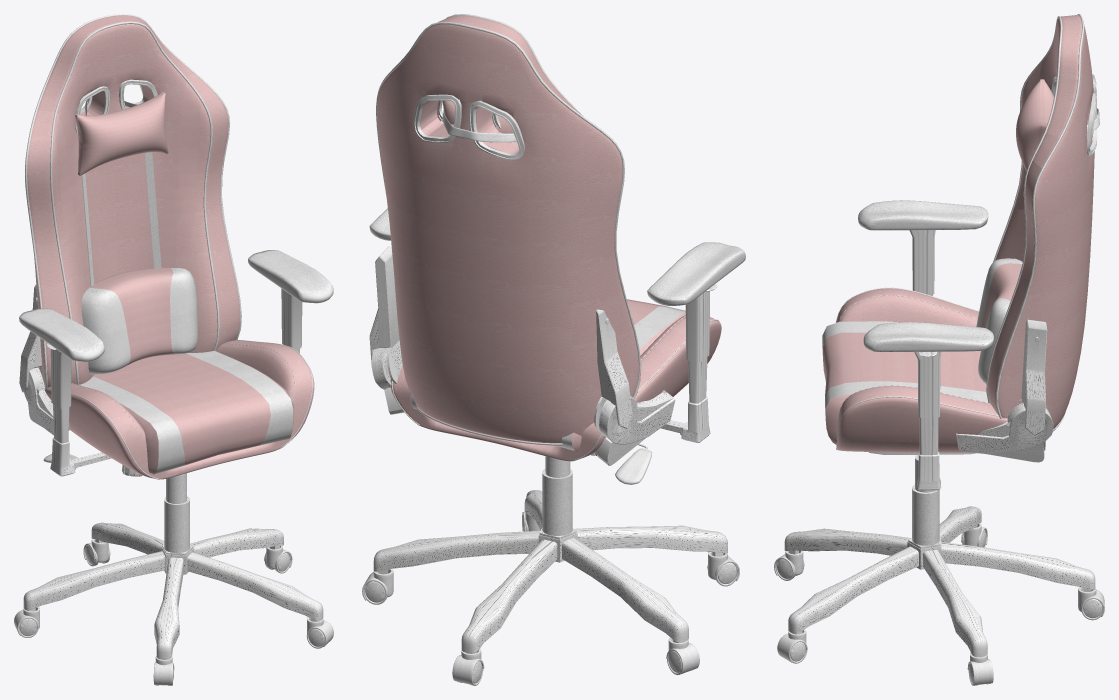
3 views of the same model, side by side, from view 1: azimuth 30°, elevation 25°; view 2: azimuth 150°, elevation 25°; view 3: azimuth 270°, elevation 25° (orthographic). The views are drawn at different scales.
Parts seen in each view (by area): view 1: Box008_Leather Full Grain Black_0, Cylinder010_Acrylic Opaque Black Dirty_0, Box005_Leather Full Grain Black_0, Box015, Box006_Leather Full Grain Black_0, Object055_Leather Full Grain Black_0, Object053_Material #8_0, Object054_Material #8_0, Box016_Leather Full Grain Black_0, Box017, Box013_Acrylic Opaque Black Dirty_0, Shape003_Material #8_0 (+3 smaller); view 2: Box008_Leather Full Grain Black_0, Cylinder010_Acrylic Opaque Black Dirty_0, Box013_Acrylic Opaque Black Dirty_0, Box015, Box006_Leather Full Grain Black_0, Shape004_Material #8_0, Object052_Acrylic Opaque Black Dirty_0, Object054_Material #8_0, Box005_Leather Full Grain Black_0, Box020; view 3: Box008_Leather Full Grain Black_0, Cylinder010_Acrylic Opaque Black Dirty_0, Box015, Box006_Leather Full Grain Black_0, Box005_Leather Full Grain Black_0, Box013_Acrylic Opaque Black Dirty_0, Box016_Leather Full Grain Black_0, Object054_Material #8_0, Object053_Material #8_0, Shape003_Material #8_0, Shape004_Material #8_0, Box017 (+3 smaller).
Part boxes in pixels (x1,y1,x2,y2): Box008_Leather Full Grain Black_0: [27, 15, 240, 387]; Cylinder010_Acrylic Opaque Black Dirty_0: [14, 473, 333, 685]; Box005_Leather Full Grain Black_0: [79, 351, 293, 474]; Box015: [19, 250, 333, 476]; Box006_Leather Full Grain Black_0: [44, 340, 314, 479]; Object055_Leather Full Grain Black_0: [30, 72, 216, 376]; Object053_Material #8_0: [81, 268, 197, 374]; Object054_Material #8_0: [79, 351, 293, 474]; Box016_Leather Full Grain Black_0: [75, 92, 168, 175]; Box017: [90, 268, 174, 365]; Box013_Acrylic Opaque Black Dirty_0: [19, 284, 69, 435]; Shape003_Material #8_0: [50, 21, 219, 384]; Box008_Leather Full Grain Black_0: [377, 15, 639, 443]; Cylinder010_Acrylic Opaque Black Dirty_0: [362, 456, 739, 685]; Box013_Acrylic Opaque Black Dirty_0: [369, 246, 675, 465]; Box015: [369, 208, 745, 484]; Box006_Leather Full Grain Black_0: [390, 315, 721, 461]; Shape004_Material #8_0: [376, 22, 641, 445]; Object052_Acrylic Opaque Black Dirty_0: [413, 94, 524, 160]; Object054_Material #8_0: [411, 306, 685, 450]; Box005_Leather Full Grain Black_0: [410, 299, 685, 451]; Box020: [442, 110, 516, 142]; Box008_Leather Full Grain Black_0: [987, 15, 1094, 428]; Cylinder010_Acrylic Opaque Black Dirty_0: [774, 455, 1104, 685]; Box015: [858, 200, 993, 490]; Box006_Leather Full Grain Black_0: [836, 288, 1044, 452]; Box005_Leather Full Grain Black_0: [822, 332, 986, 444]; Box013_Acrylic Opaque Black Dirty_0: [956, 319, 1053, 462]; Box016_Leather Full Grain Black_0: [1016, 79, 1054, 171]; Object054_Material #8_0: [822, 321, 987, 415]; Object053_Material #8_0: [976, 258, 1022, 383]; Shape003_Material #8_0: [986, 16, 1062, 402]; Shape004_Material #8_0: [996, 14, 1084, 431]; Box017: [981, 263, 1022, 327].
Bounding box in the file's own units: 0.7329 × 1.39 × 0.7025.
6 materials, 6 textured.
